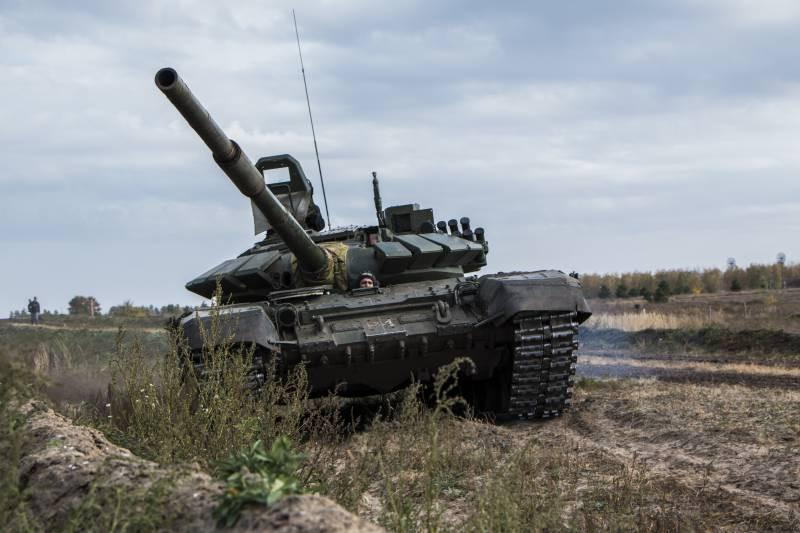tank: (154, 67, 593, 428)
